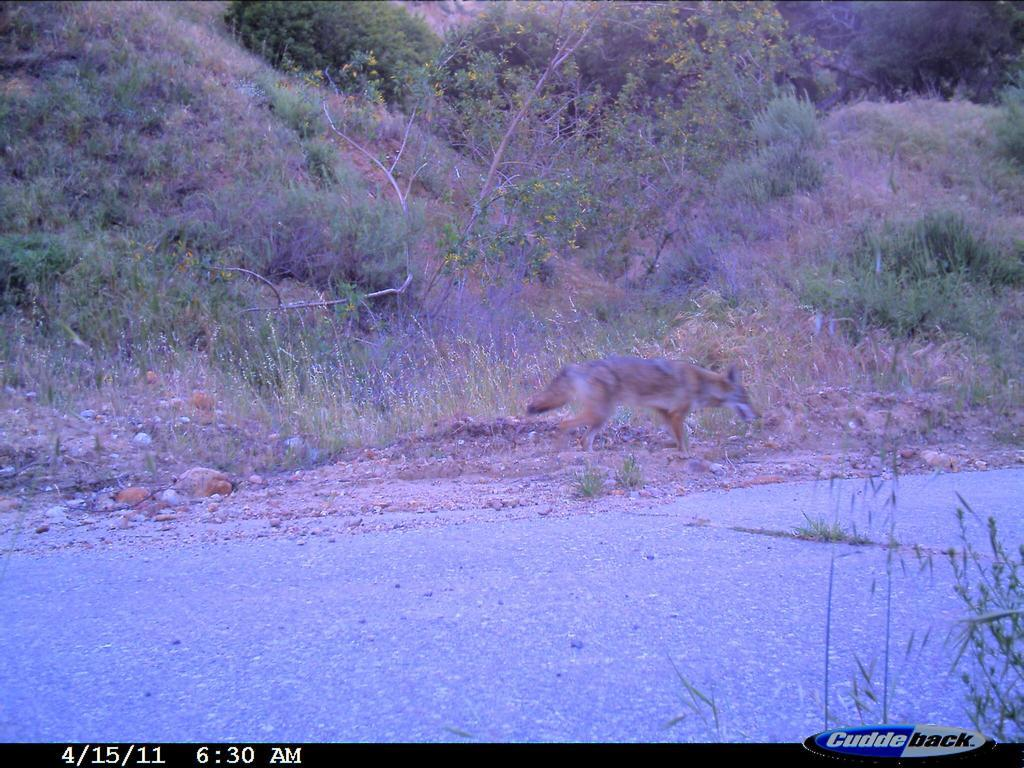coyote: (515, 351, 777, 480)
